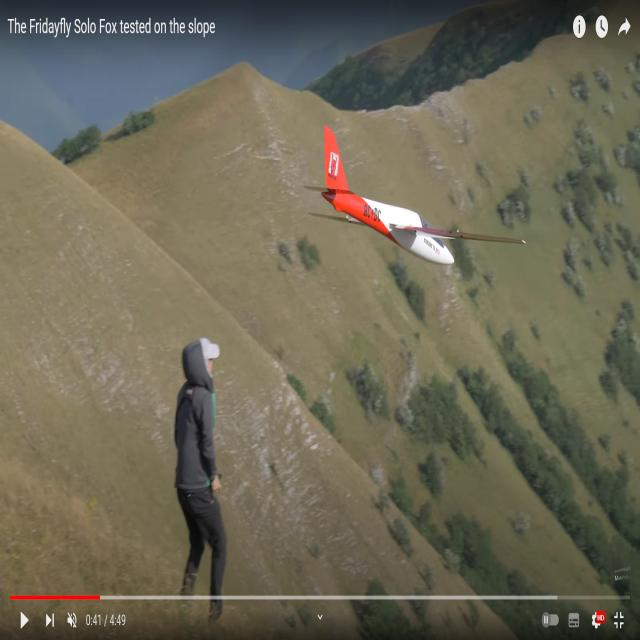iha: (319, 121, 526, 272)
